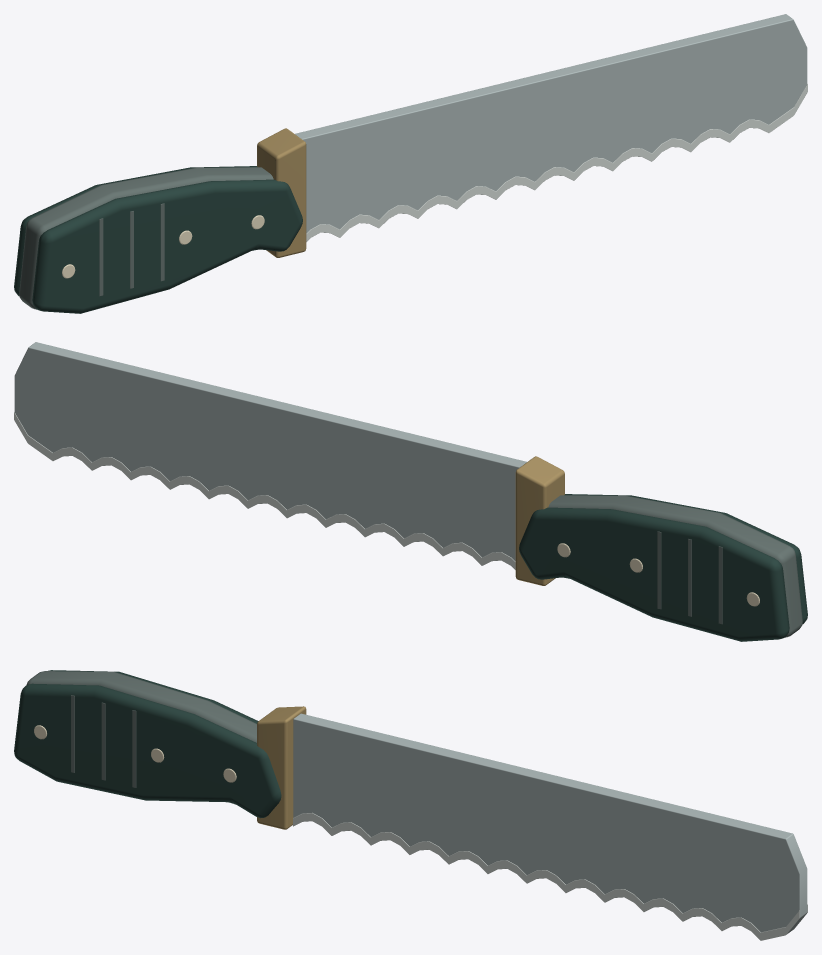
The model's file is bread.glb.
3 renders of one model, top to bottom at view 1: azimuth 30°, elevation 25°; view 2: azimuth 150°, elevation 25°; view 3: azimuth 330°, elevation 25°, orthographic.
Parts seen in each view (by area): view 1: Twelve actual Bread scallops, Raised charcoal-green Bread scales, Bread sculpted full tang, Continuous double-sided scalloped honing, Brass Bread ferrule; view 2: Twelve actual Bread scallops, Raised charcoal-green Bread scales, Bread sculpted full tang, Continuous double-sided scalloped honing, Brass Bread ferrule; view 3: Twelve actual Bread scallops, Raised charcoal-green Bread scales, Bread sculpted full tang, Continuous double-sided scalloped honing, Brass Bread ferrule.
Boxes of the visible parts, box(x1,y1,x2,y2) form: Twelve actual Bread scallops: box(295, 14, 807, 233); Raised charcoal-green Bread scales: box(14, 166, 302, 313); Bread sculpted full tang: box(19, 167, 273, 309); Continuous double-sided scalloped honing: box(306, 84, 807, 241); Brass Bread ferrule: box(257, 128, 306, 257); Twelve actual Bread scallops: box(14, 342, 526, 561); Raised charcoal-green Bread scales: box(519, 494, 807, 641); Bread sculpted full tang: box(548, 495, 802, 637); Continuous double-sided scalloped honing: box(14, 412, 515, 569); Brass Bread ferrule: box(515, 456, 564, 585); Twelve actual Bread scallops: box(293, 713, 807, 933); Raised charcoal-green Bread scales: box(14, 670, 281, 818); Bread sculpted full tang: box(26, 671, 256, 787); Continuous double-sided scalloped honing: box(293, 812, 807, 940); Brass Bread ferrule: box(257, 706, 306, 829).
Size of the model in its own units: 2.8 by 0.4074 by 0.179.
